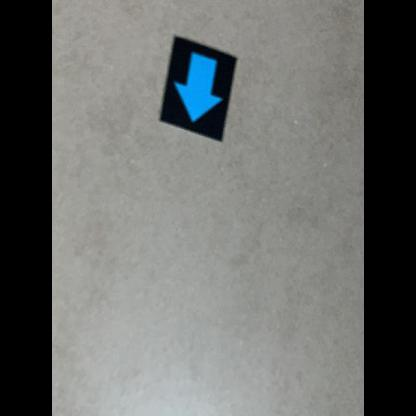down: (157, 32, 240, 146)
